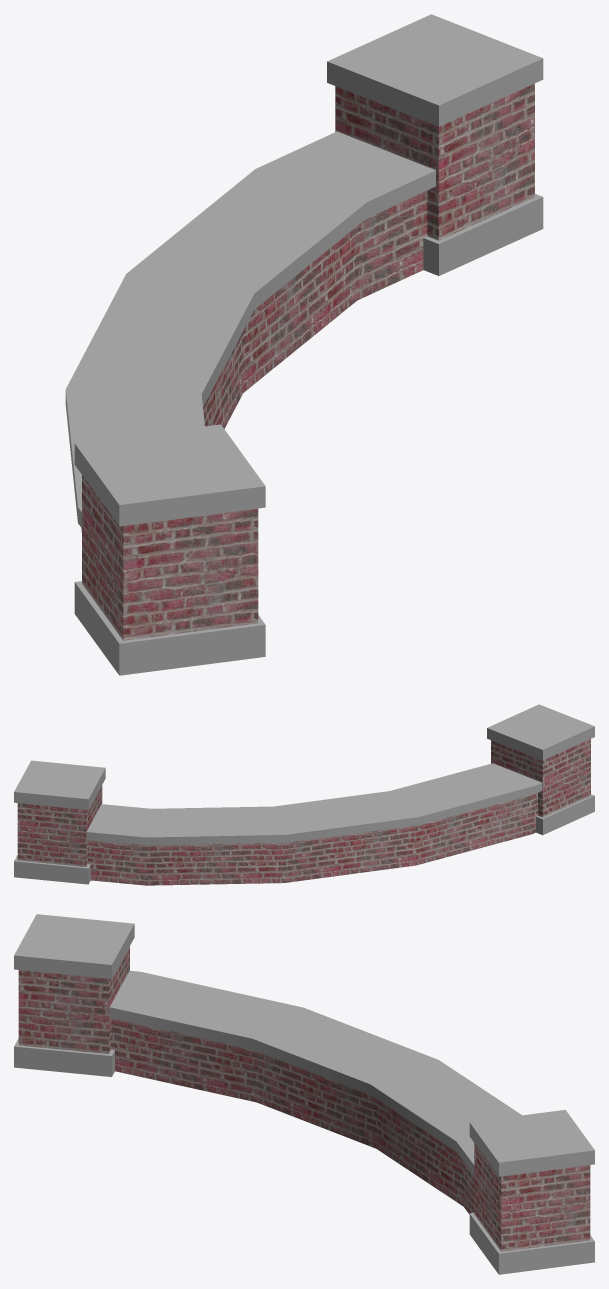
Rendered from Brick Wall.fbx.
3 views of the same model, one above another, from view 1: azimuth 30°, elevation 25°; view 2: azimuth 150°, elevation 25°; view 3: azimuth 270°, elevation 25° (orthographic). The views are drawn at different scales.
Parts seen in each view (by area): view 1: wall_curved, wall_end2, wall_end1; view 2: wall_curved, wall_end1, wall_end2; view 3: wall_curved, wall_end1, wall_end2.
Part boxes in pixels (box(x1,y1,x2,y2)): wall_curved: box(65, 131, 435, 531); wall_end2: box(74, 424, 265, 675); wall_end1: box(327, 14, 543, 275); wall_curved: box(86, 763, 542, 885); wall_end1: box(14, 760, 105, 884); wall_end2: box(487, 704, 594, 835); wall_curved: box(109, 970, 521, 1214); wall_end1: box(469, 1110, 594, 1274); wall_end2: box(14, 914, 134, 1076).
Size of the model in its own units: 3.87 by 0.8128 by 3.82.
